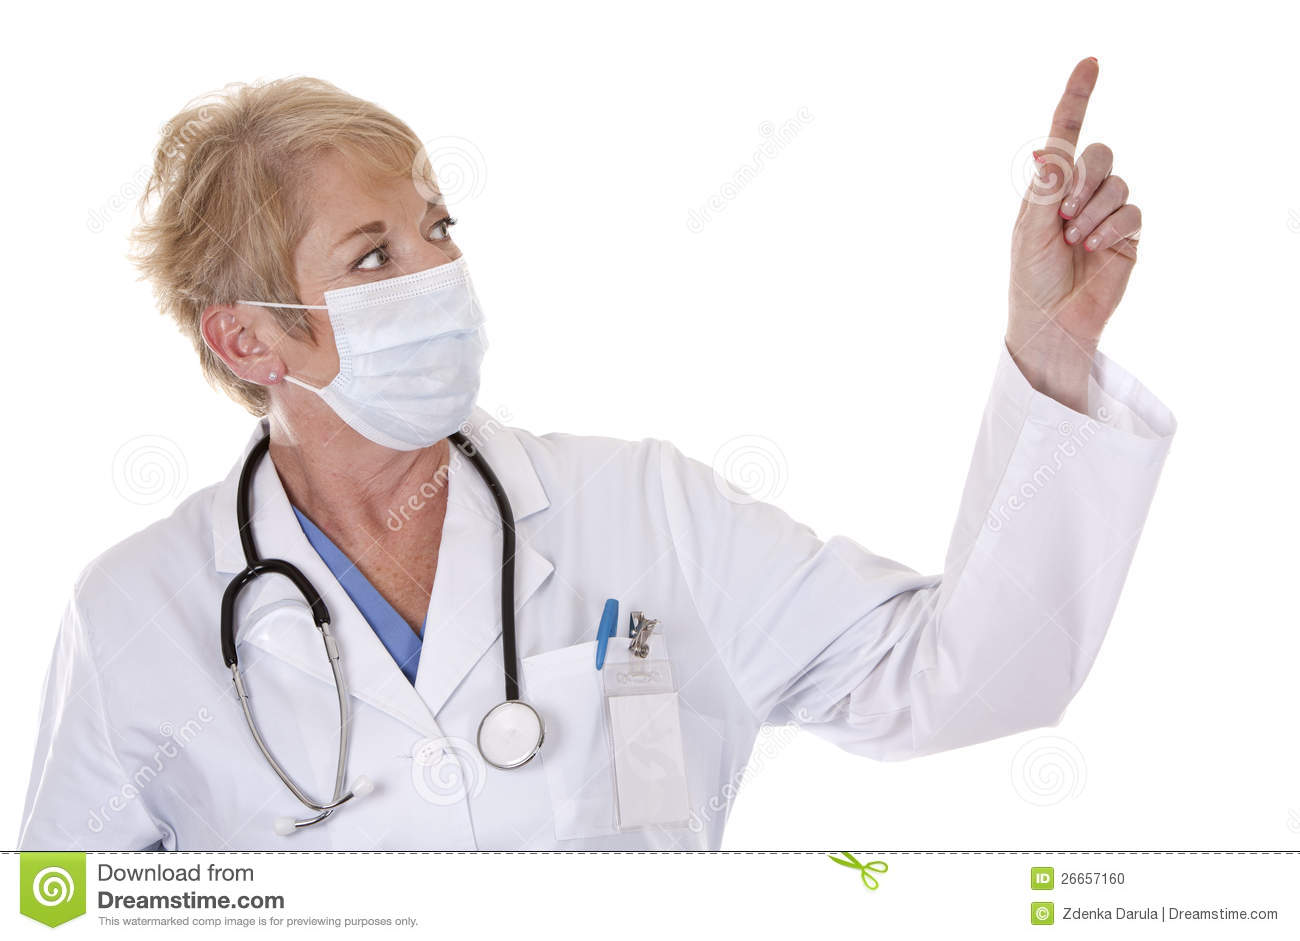mask: (311, 265, 506, 446)
